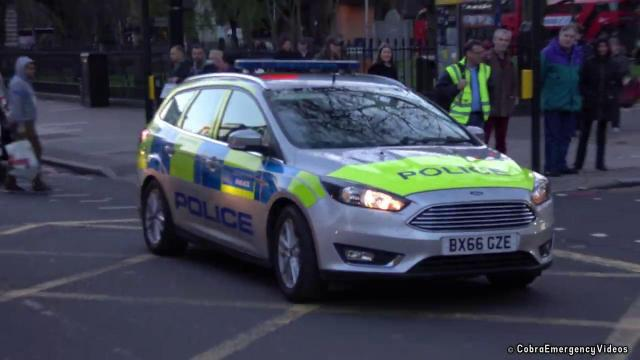police_car: (138, 57, 558, 294)
